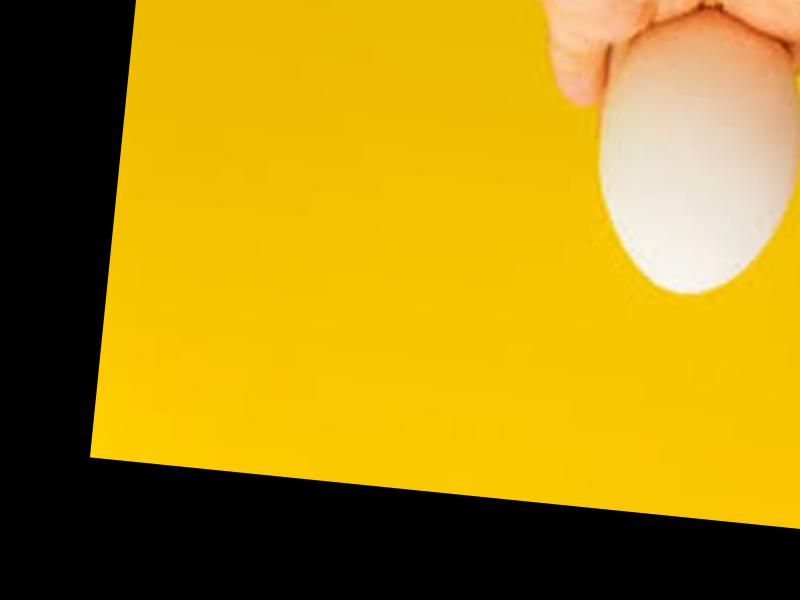Eggs: (586, 2, 800, 305)
